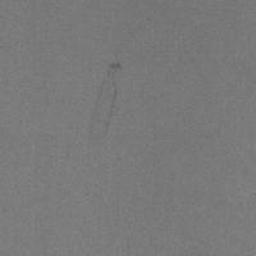Water spot: (89, 62, 122, 140)
